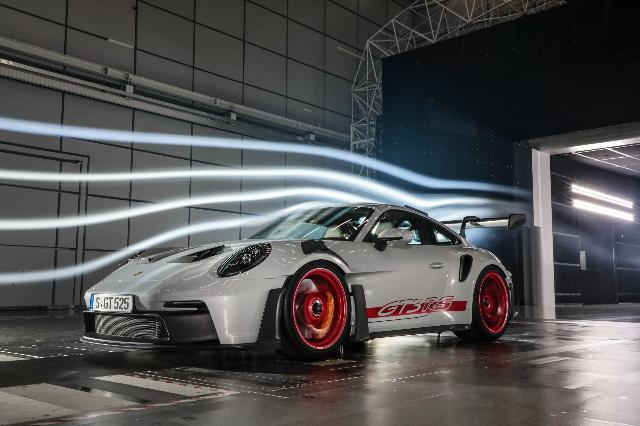porsche: (80, 204, 518, 360)
